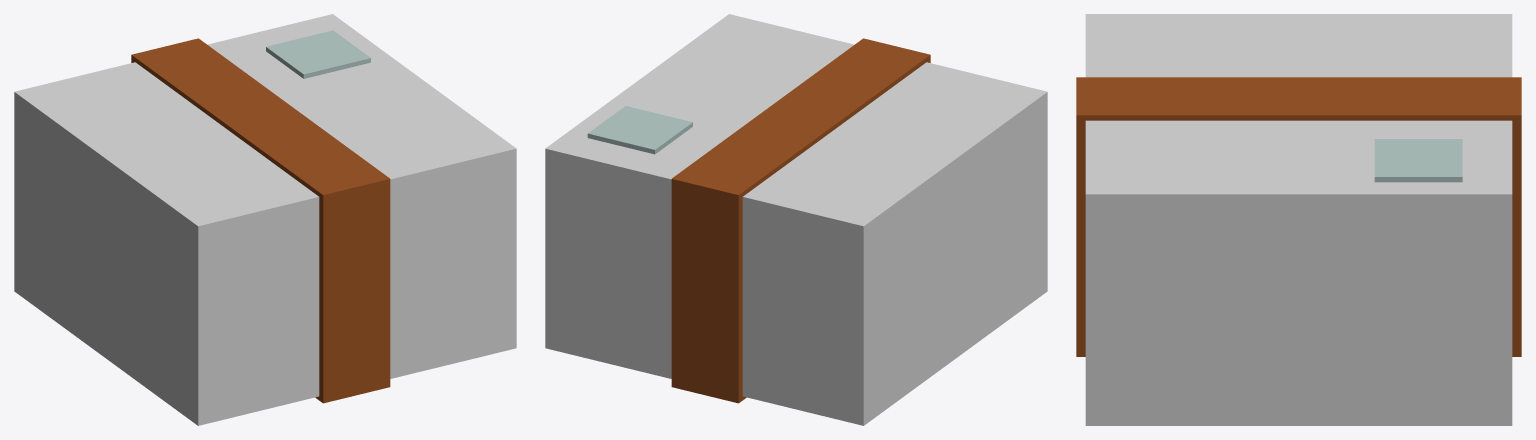
Rendered from Cardbox.glb.
The picture shows the model from 3 angles, left to right: view 1: azimuth 30°, elevation 25°; view 2: azimuth 150°, elevation 25°; view 3: azimuth 270°, elevation 25°; orthographic projection. The views are drawn at different scales.
Visible parts, largest first — view 1: Cube, Cube.001, Cube.002; view 2: Cube, Cube.001, Cube.002; view 3: Cube, Cube.001, Cube.002.
Part boxes in pixels (left/top/right/bottom): Cube: left=14, top=14, right=516, bottom=425; Cube.001: left=131, top=38, right=390, bottom=403; Cube.002: left=266, top=30, right=370, bottom=78; Cube: left=545, top=14, right=1047, bottom=425; Cube.001: left=671, top=38, right=930, bottom=403; Cube.002: left=587, top=106, right=692, bottom=154; Cube: left=1085, top=14, right=1512, bottom=425; Cube.001: left=1076, top=77, right=1521, bottom=356; Cube.002: left=1374, top=139, right=1462, bottom=182.
Size of the model in its own units: 2 by 1.25 by 2.09.
